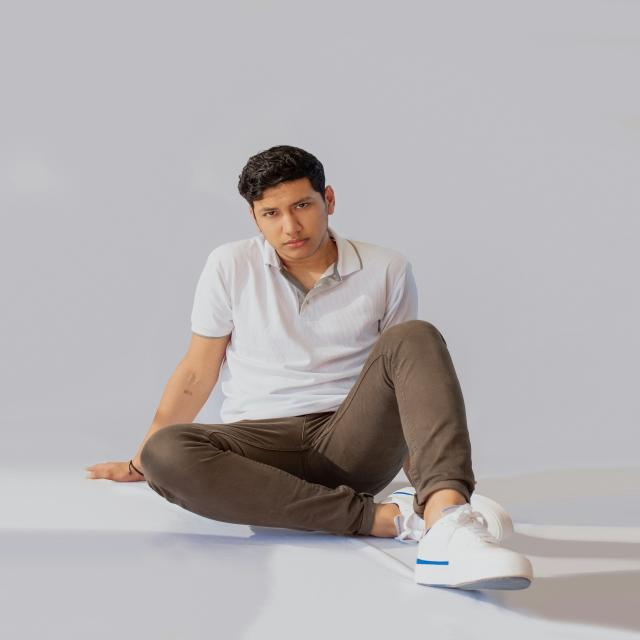human: (73, 132, 558, 598)
